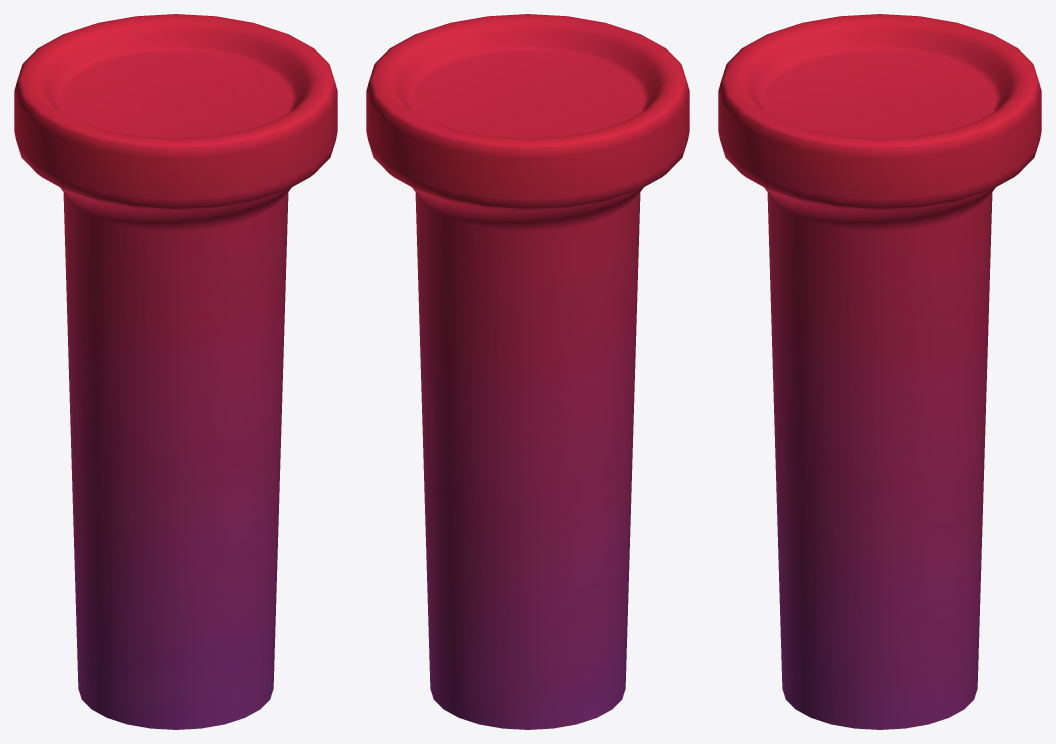
File: Platform006.fbx
The picture shows the model from 3 angles, left to right: view 1: azimuth 30°, elevation 25°; view 2: azimuth 150°, elevation 25°; view 3: azimuth 270°, elevation 25°; orthographic projection.
Visible parts, largest first — view 1: Platform5; view 2: Platform5; view 3: Platform5.
Part boxes in pixels (box(x1,y1,x2,y2)): Platform5: box(14, 14, 337, 729); Platform5: box(366, 14, 689, 729); Platform5: box(718, 14, 1041, 729).
Size of the model in its own units: 154 by 321 by 154.
